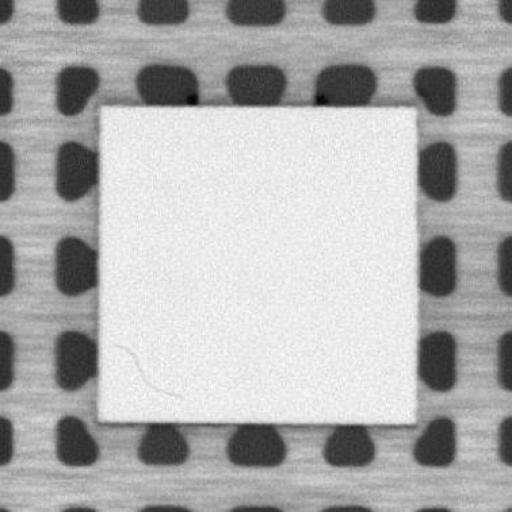DIE_CRACK: (111, 343, 176, 400)
